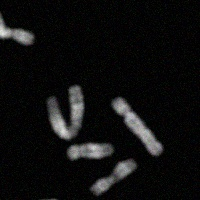chromosome: (111, 97, 162, 156), (47, 83, 83, 140), (89, 158, 134, 195), (0, 9, 35, 47), (65, 142, 110, 161), (38, 197, 70, 200)
